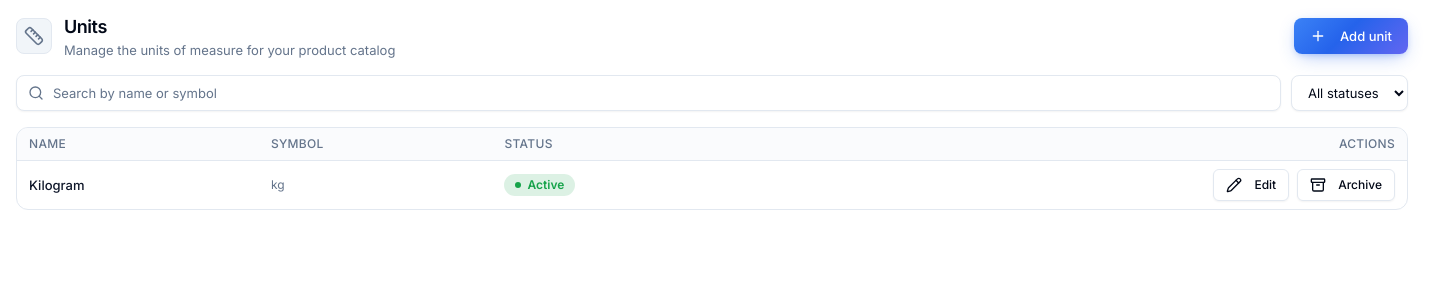
Scenario: UnitsView › surfaces an archive error
Click the button "Archive": point(1346, 185) [1297, 169, 1395, 201]
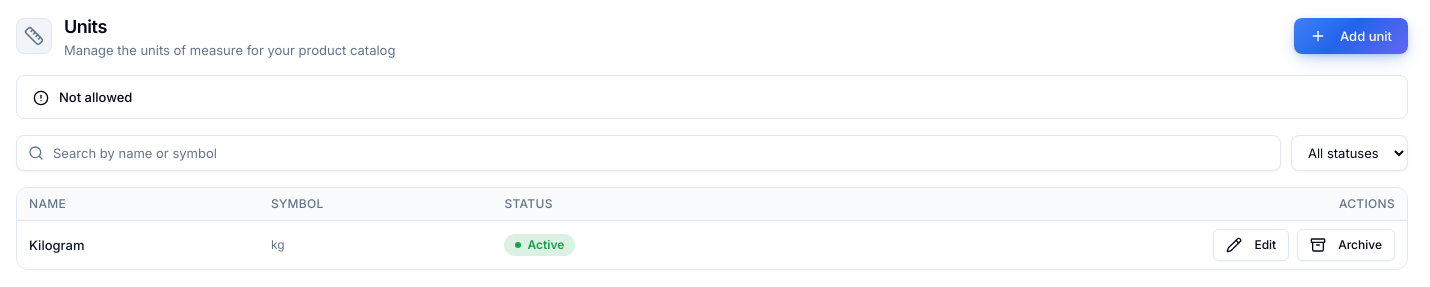
Result: the text "Not allowed" is shown at [59, 88, 132, 106]
